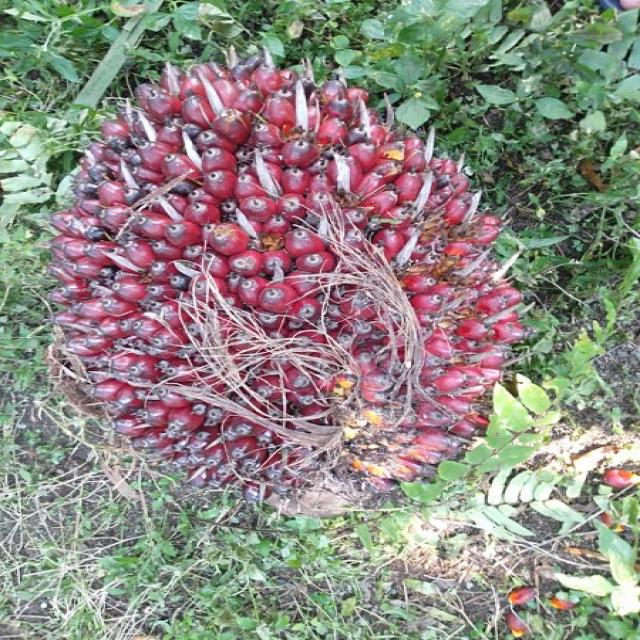fraksi 1: (21, 37, 560, 538)
